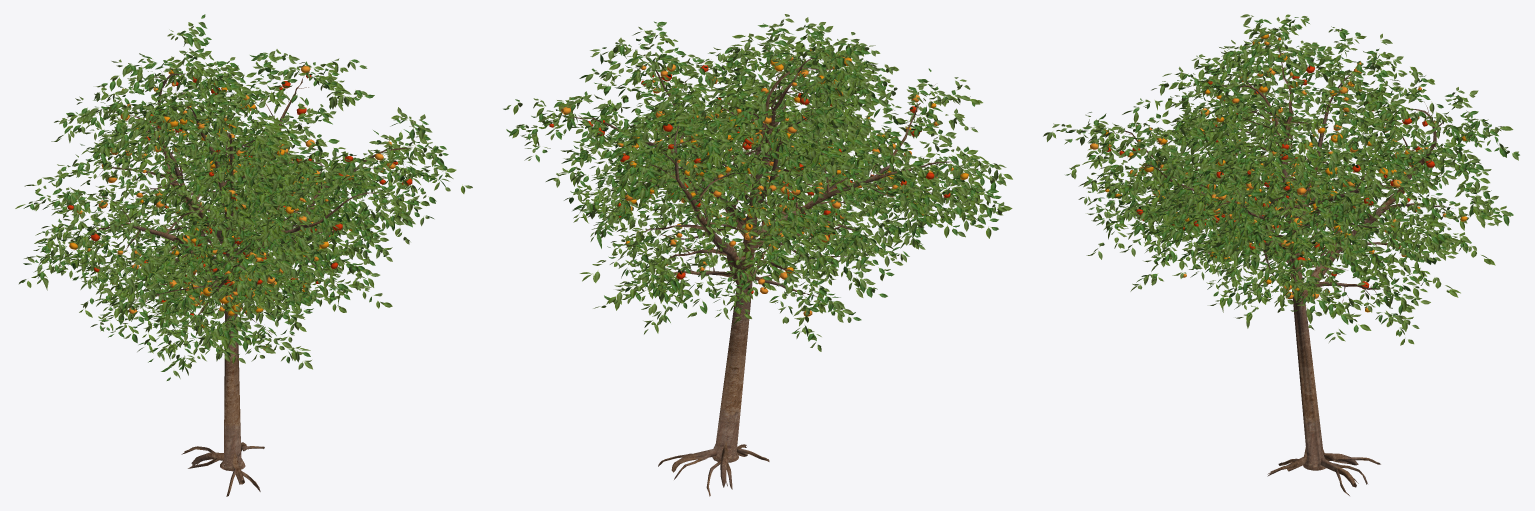
File: mandarino_near_mid.glb
The picture shows the model from 3 angles, left to right: view 1: azimuth 30°, elevation 25°; view 2: azimuth 150°, elevation 25°; view 3: azimuth 270°, elevation 25°; orthographic projection. The views are drawn at different scales.
Visible parts, largest first — view 1: Mandarin_tree; view 2: Mandarin_tree; view 3: Mandarin_tree.
Part boxes in pixels (x1,y1,x2,y2): Mandarin_tree: (15, 14, 472, 496); Mandarin_tree: (503, 14, 1012, 496); Mandarin_tree: (1043, 14, 1519, 495).
Bounding box in the file's own units: 5.96 × 5.81 × 5.94.
10 materials, 10 textured.
